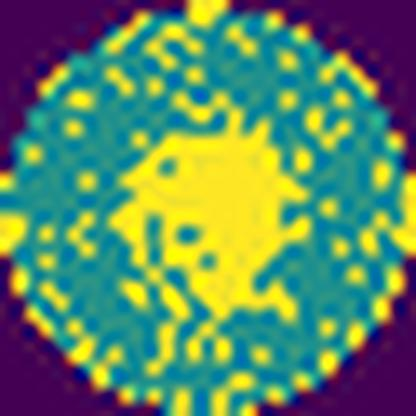Center: (117, 93, 312, 326)
